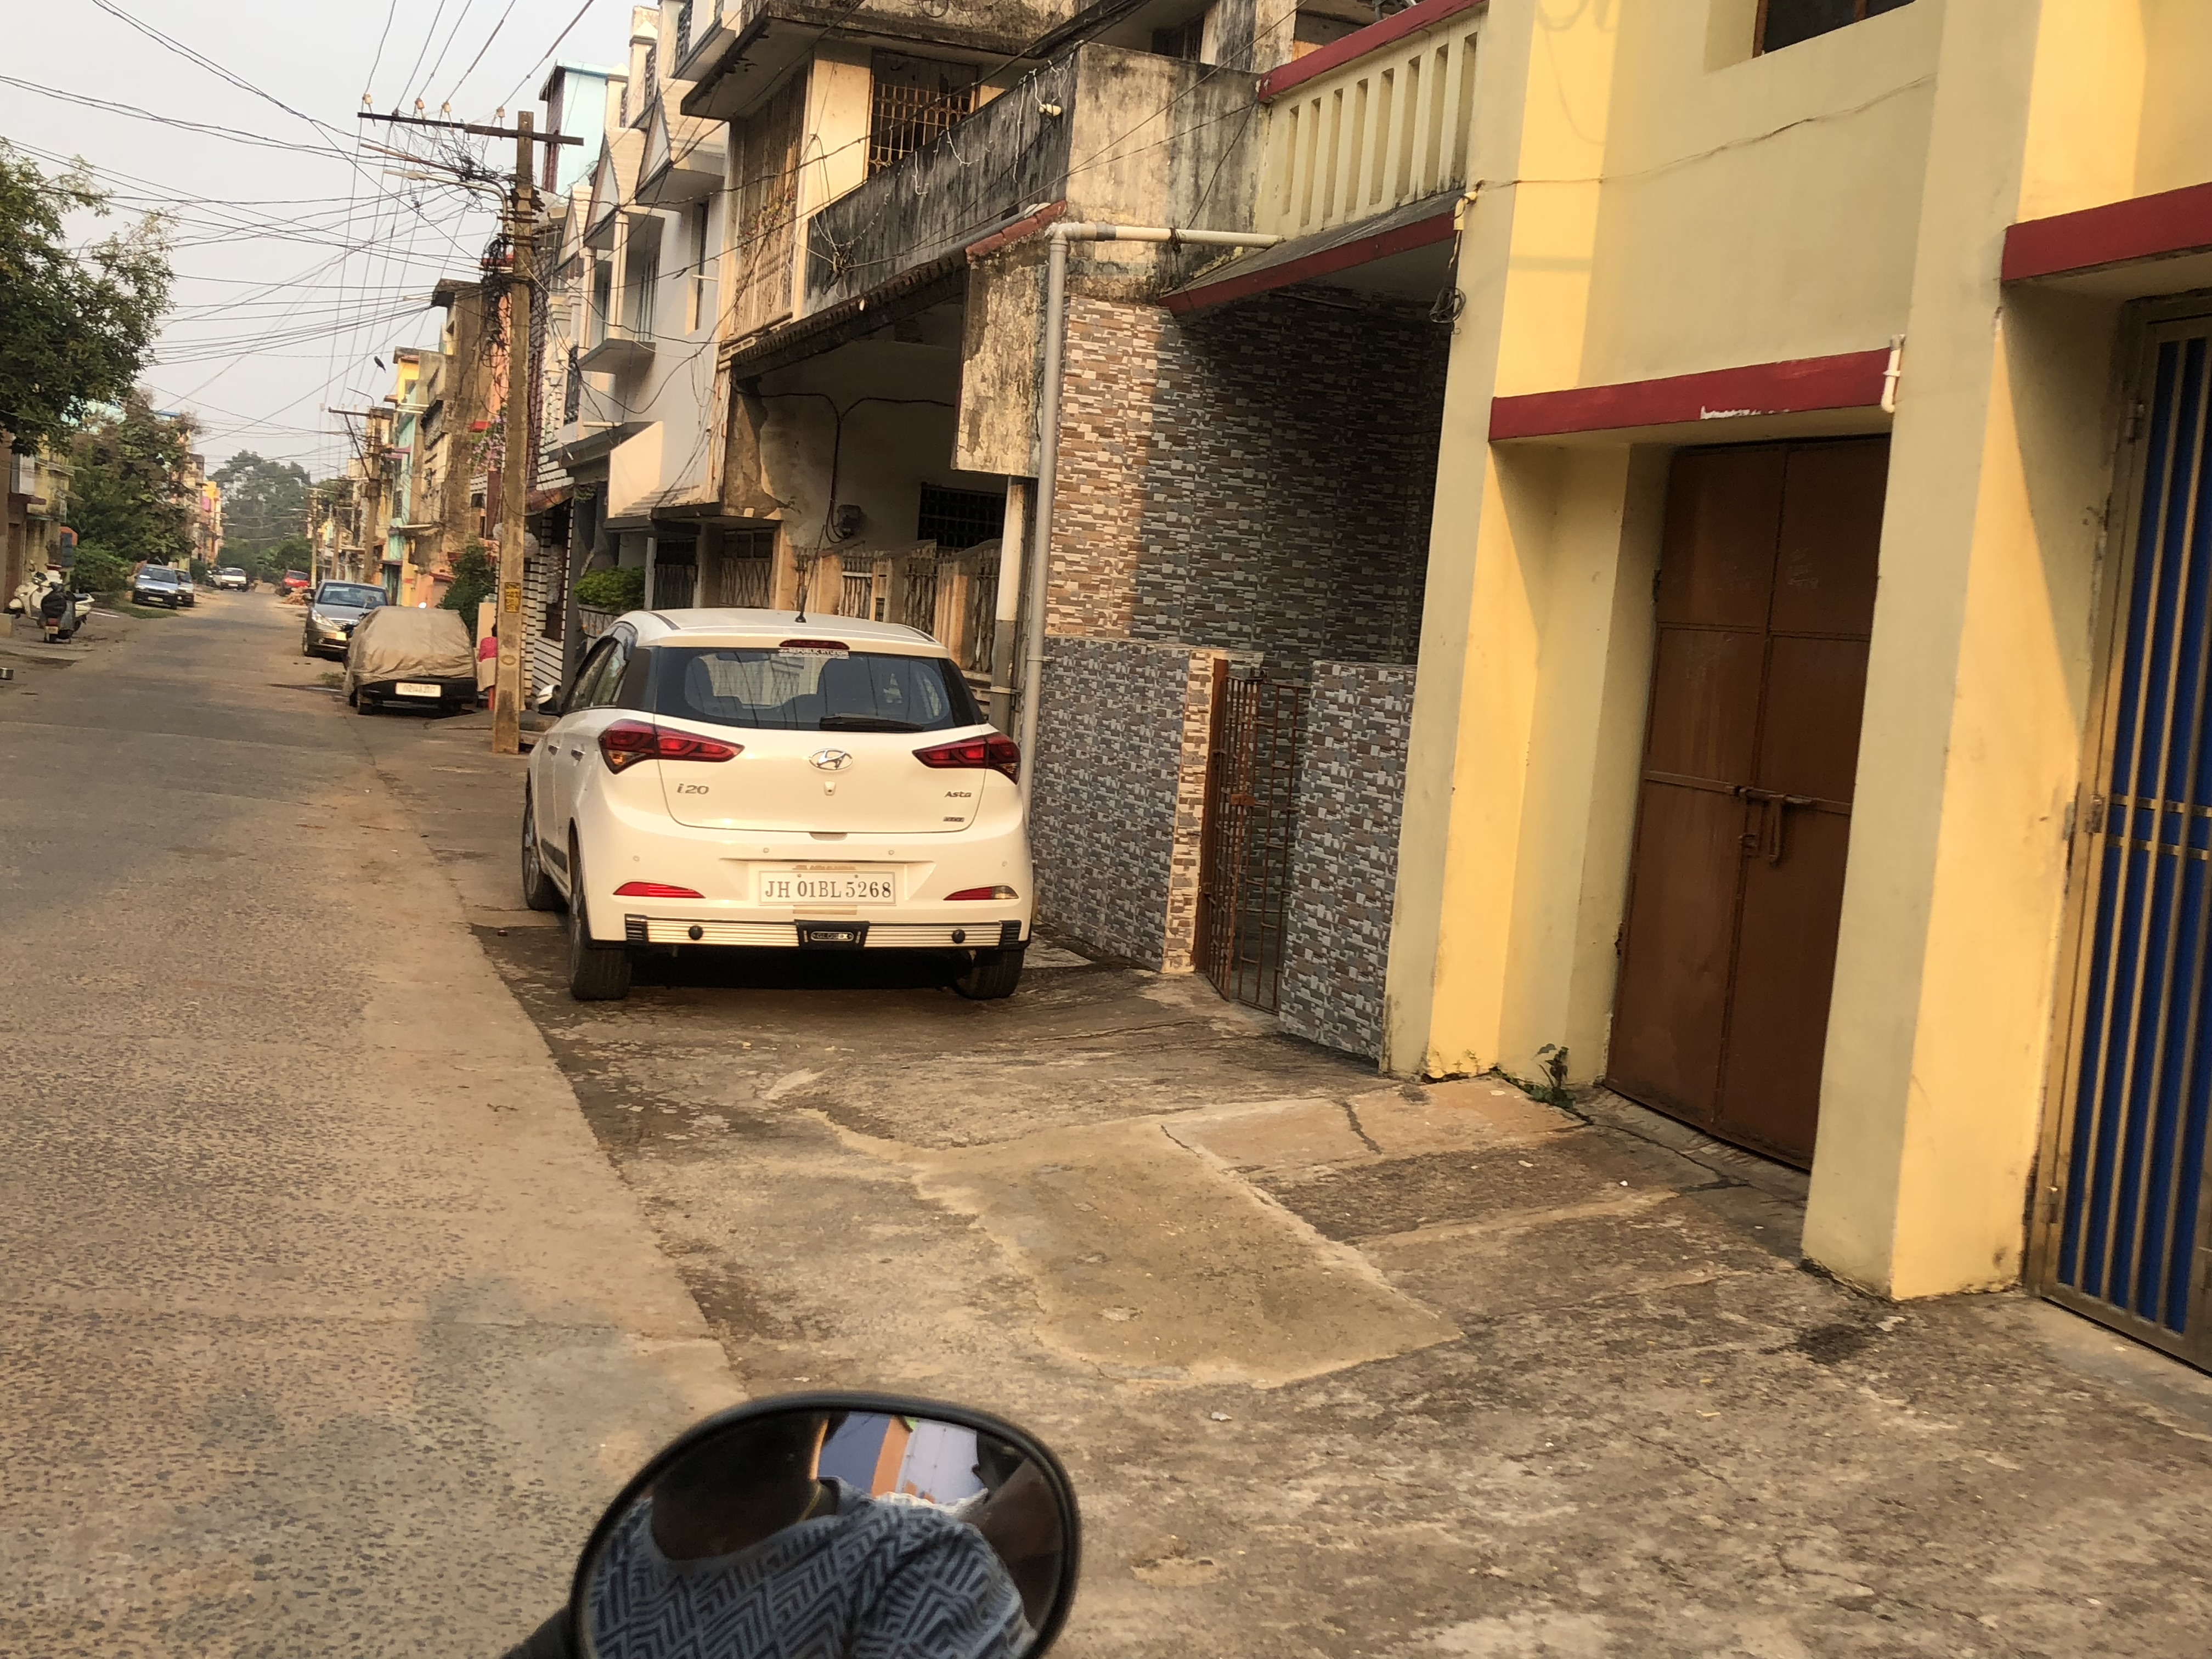licenseplate: (742, 853, 915, 918)
